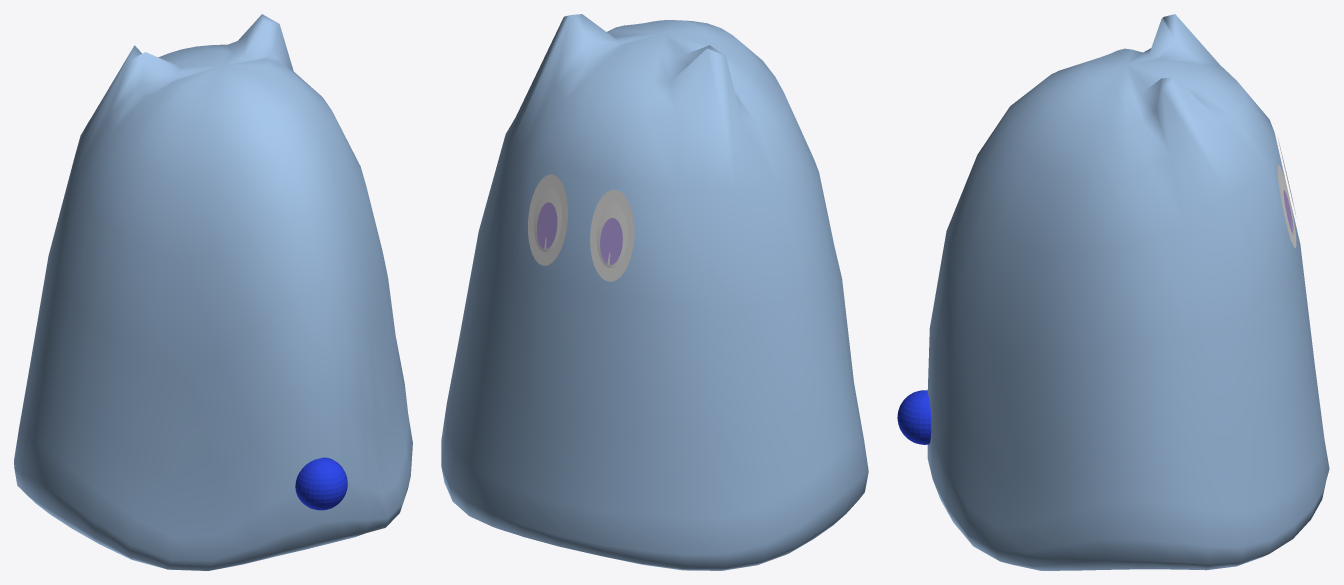
The model's file is neko.fbx.
3 renders of one model, left to right at view 1: azimuth 30°, elevation 25°; view 2: azimuth 150°, elevation 25°; view 3: azimuth 270°, elevation 25°, orthographic. The views are drawn at different scales.
Visible parts, largest first — view 1: 球, 球.002; view 2: 球, 円; view 3: 球, 球.002, 円.
Part boxes in pixels (bbox=[...]): 球: bbox=[14, 14, 412, 570]; 球.002: bbox=[295, 457, 347, 510]; 球: bbox=[441, 14, 868, 570]; 円: bbox=[528, 174, 634, 281]; 球: bbox=[927, 14, 1329, 570]; 球.002: bbox=[897, 390, 931, 444]; 円: bbox=[1277, 137, 1296, 247].
Bounding box in the file's own units: 194 × 237 × 200.
